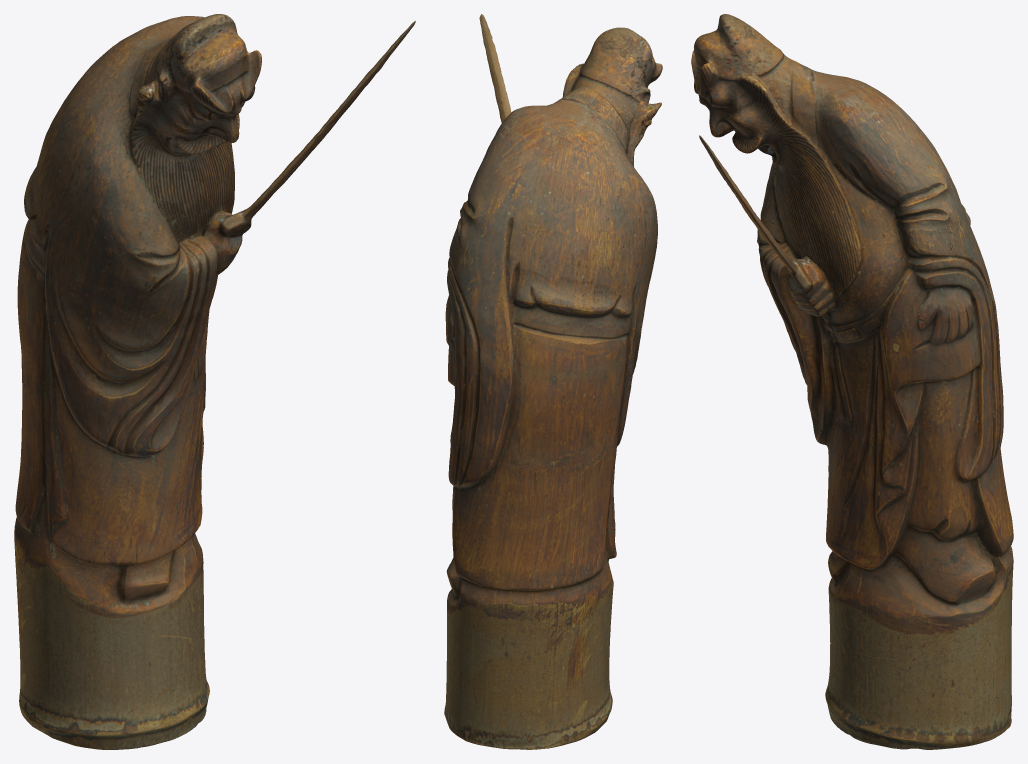
3 renders of one model, left to right at view 1: azimuth 30°, elevation 25°; view 2: azimuth 150°, elevation 25°; view 3: azimuth 270°, elevation 25°, orthographic. The views are drawn at different scales.
Parts seen in each view (by area): view 1: Retopo_mesh.002_0; view 2: Retopo_mesh.002_0; view 3: Retopo_mesh.002_0.
Part boxes in pixels (box(x1,y1,x2,y2)): Retopo_mesh.002_0: box(14, 14, 415, 749); Retopo_mesh.002_0: box(444, 14, 662, 749); Retopo_mesh.002_0: box(691, 14, 1013, 749).
Size of the model in its own units: 0.1581 by 0.4135 by 0.1739.
1 material, 1 textured.
